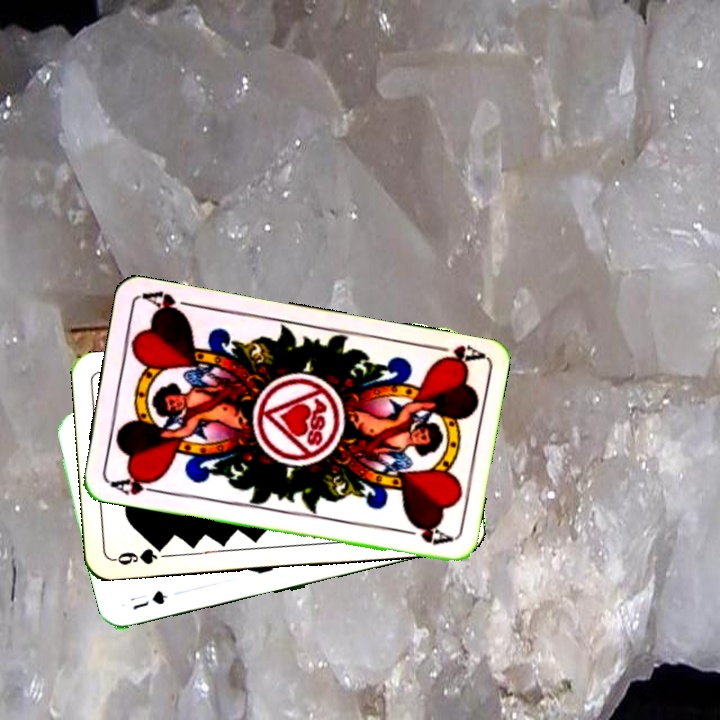G9: (110, 540, 168, 568)
GU: (129, 588, 171, 613)
HA: (425, 340, 485, 369), (106, 470, 165, 498)
